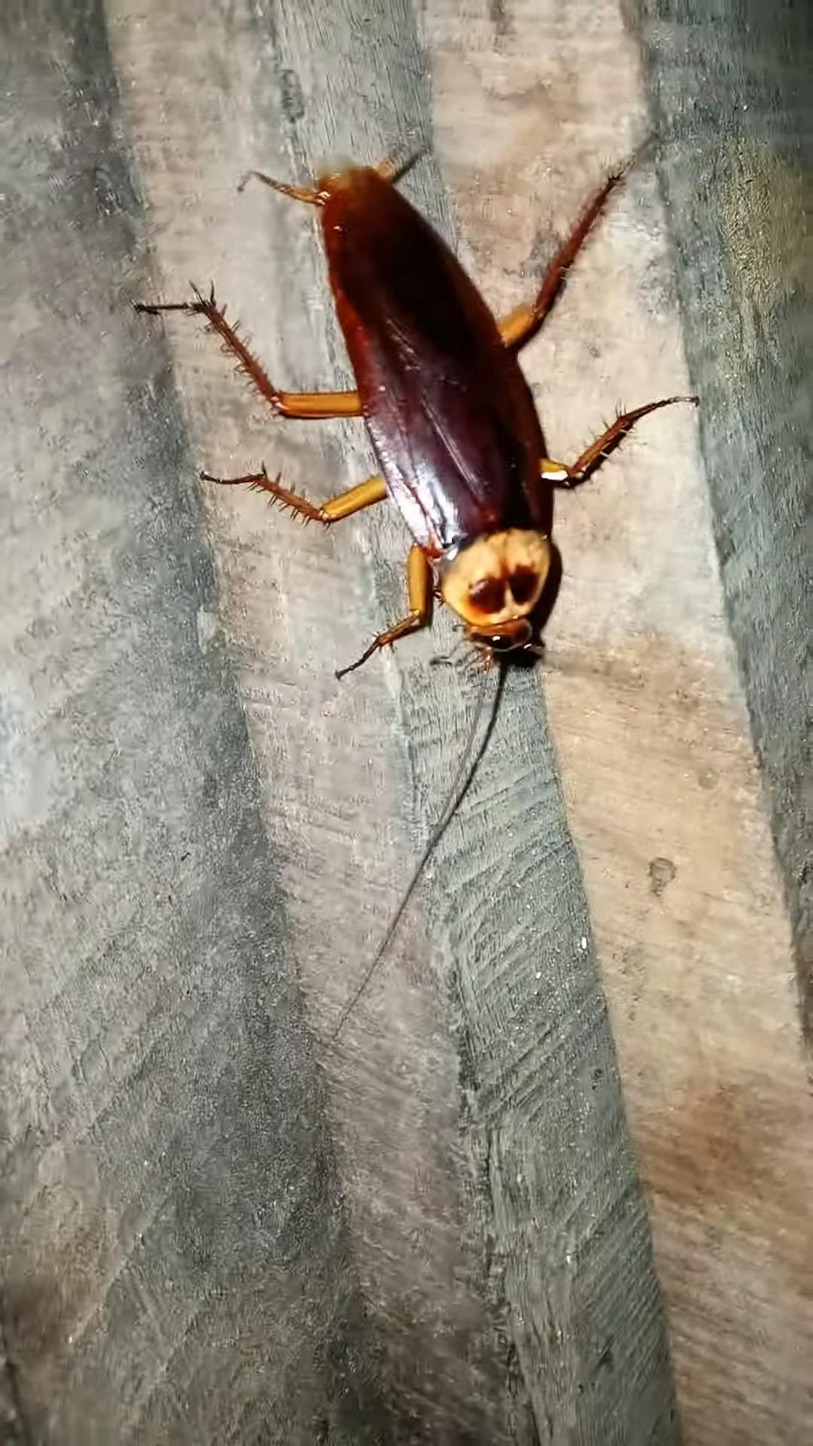cockroach: (117, 110, 652, 799)
